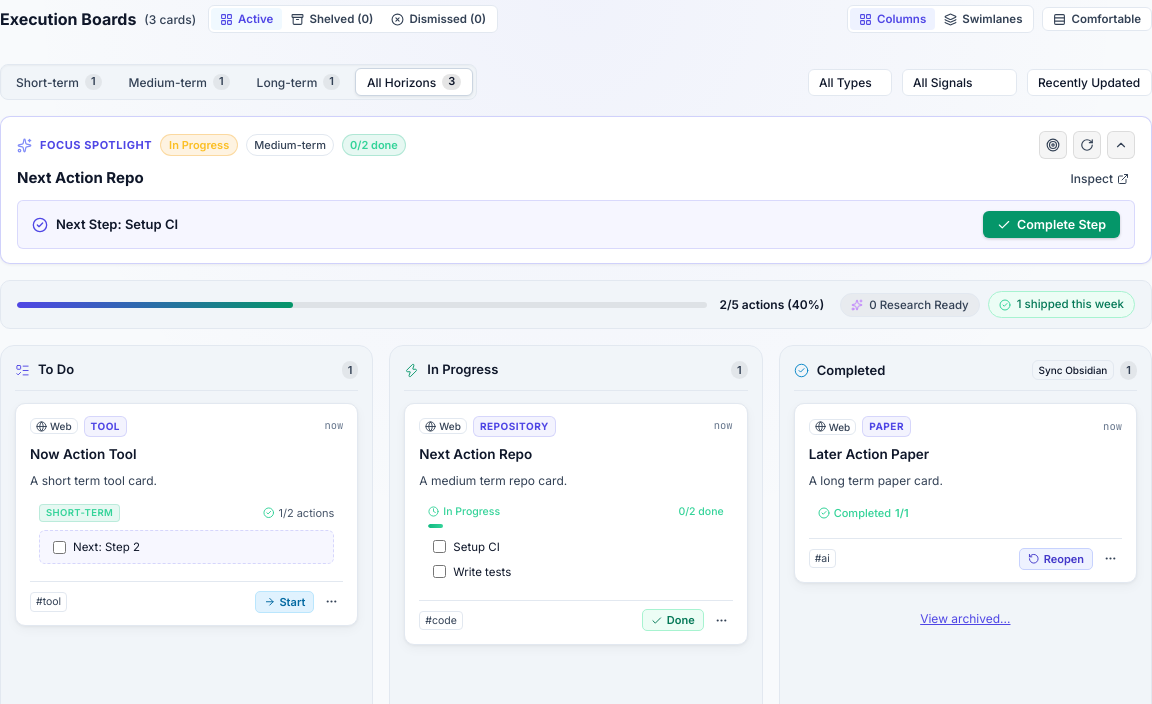
KanbanBoard Density & Usability › Execution Swimlanes (2D Strategic Matrix) › handles 2D drag-and-drop into Card Type swimlane cell updating status and type with Undo
Click the radio button labelled "Swimlanes" at [983, 19], box [935, 8, 1032, 30]
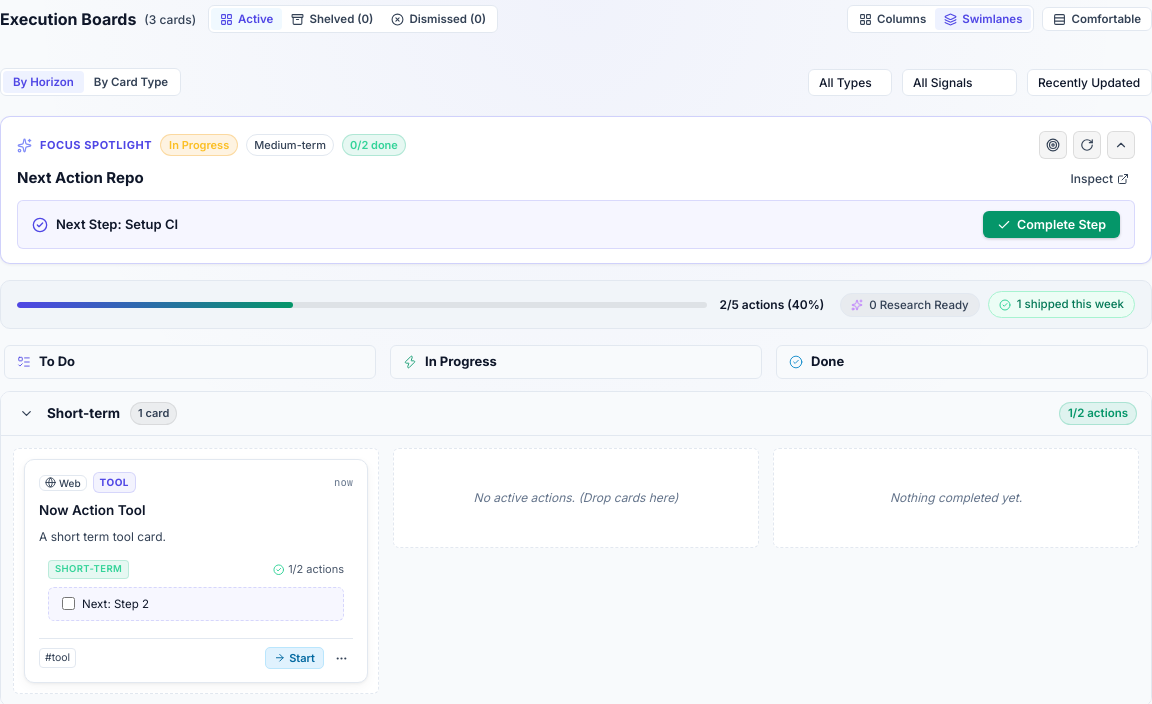
Click the radio button labelled "By Card Type" at [131, 82], box [84, 71, 178, 93]
(page scrolled)
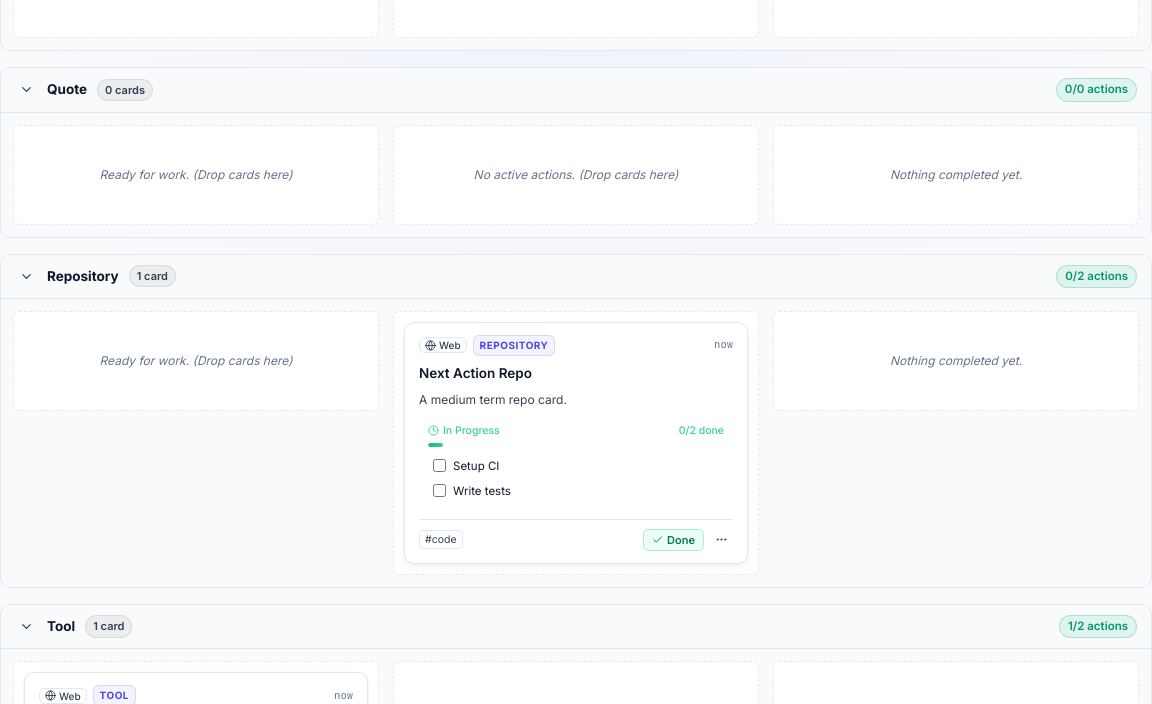
Expected: the element with test id "swimlane-cell-repo-done" is shown, [773, 311, 1139, 411]
